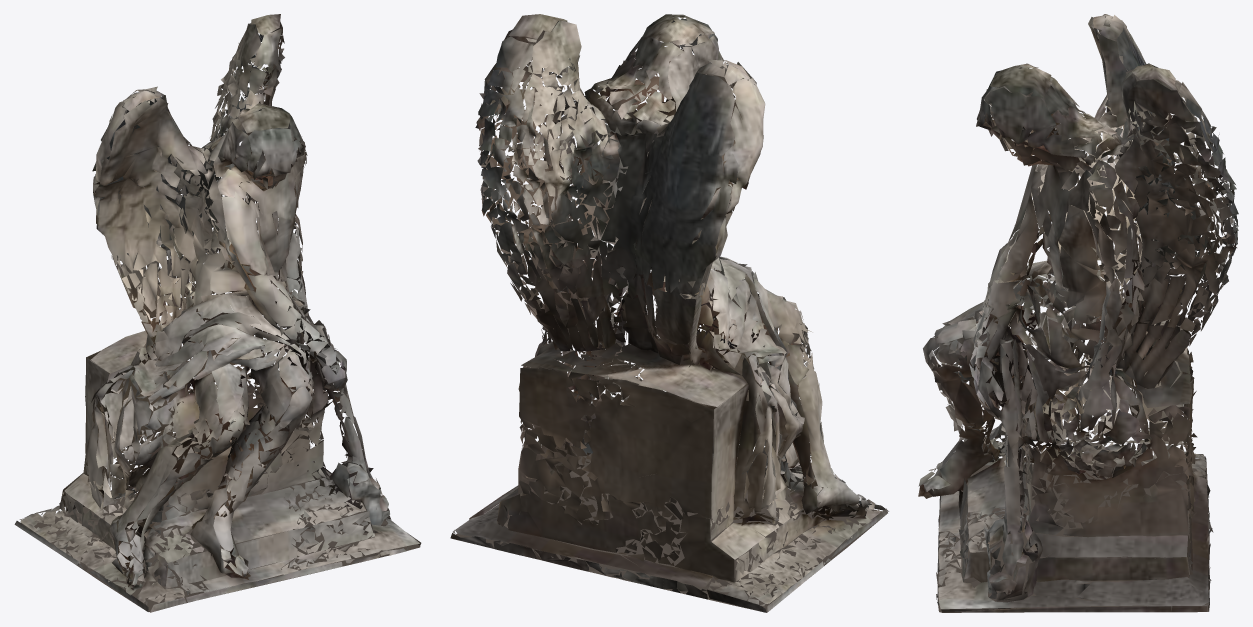
Rendered from engel.glb.
3 renders of one model, left to right at view 1: azimuth 30°, elevation 25°; view 2: azimuth 150°, elevation 25°; view 3: azimuth 270°, elevation 25°, orthographic. The views are drawn at different scales.
Visible parts, largest first — view 1: Object_2; view 2: Object_2; view 3: Object_2.
Part boxes in pixels (<box>): Object_2: <box>14,14,421,612</box>; Object_2: <box>450,14,888,612</box>; Object_2: <box>918,14,1238,612</box>.
Bounding box in the file's own units: 0.8249 × 1.3 × 0.7324.
Materials: 1 (1 with a texture image).
